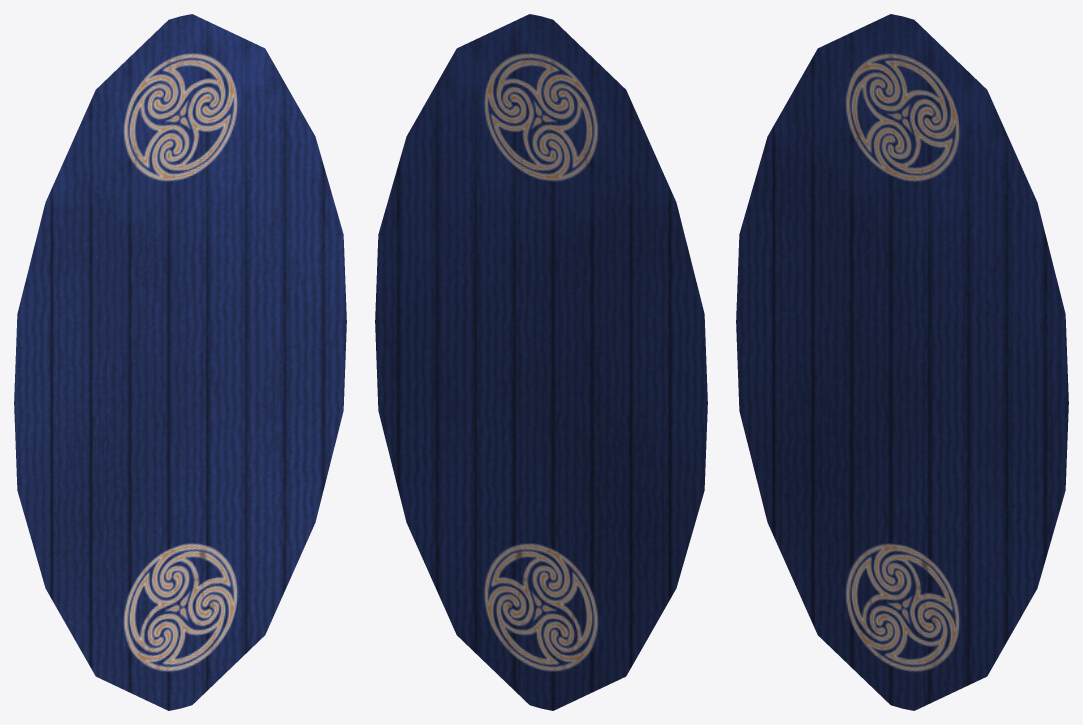
Rendered from shield_oval_celtic.glb.
The picture shows the model from 3 angles, left to right: view 1: azimuth 30°, elevation 25°; view 2: azimuth 150°, elevation 25°; view 3: azimuth 330°, elevation 25°; orthographic projection.
Visible parts, largest first — view 1: Shield; view 2: Shield; view 3: Shield.
Boxes of the visible parts, left/top/right/bottom form: Shield: left=14, top=14, right=346, bottom=710; Shield: left=375, top=14, right=707, bottom=710; Shield: left=736, top=14, right=1068, bottom=710.
Size of the model in its own units: 0.5602 by 1.11 by 0.
1 material, 1 textured.
